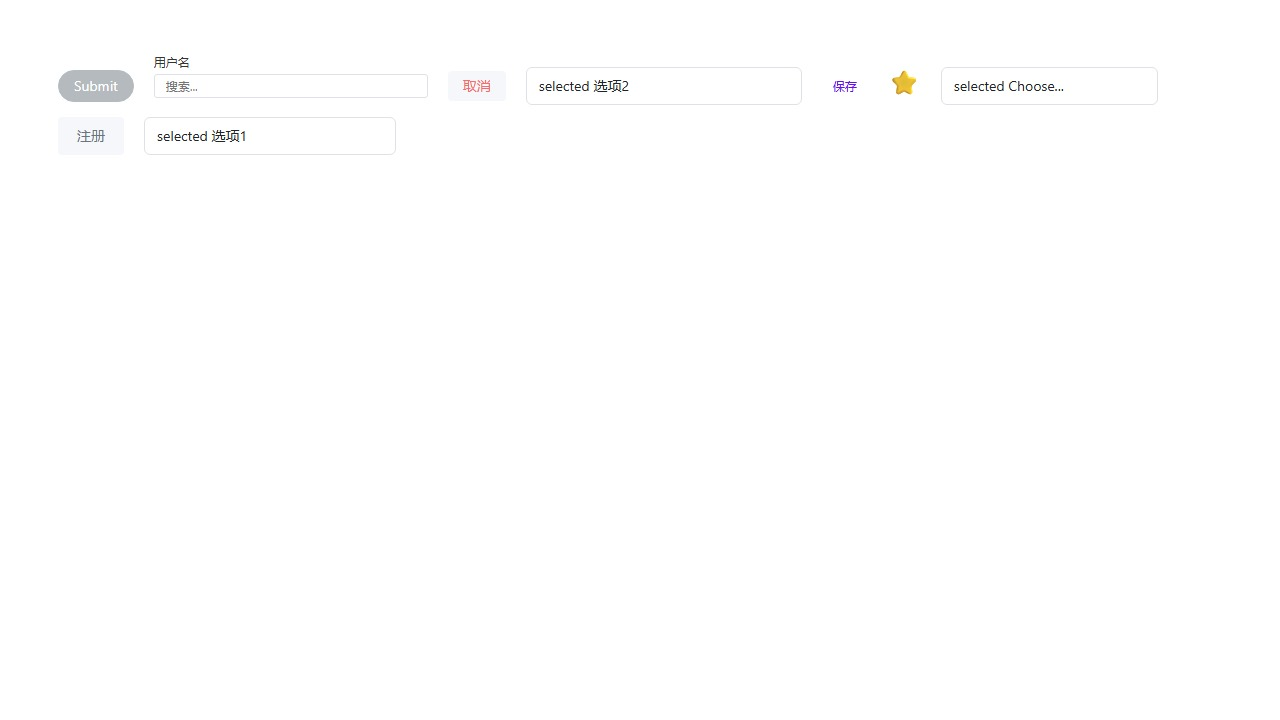button: (58, 117, 124, 155), (58, 70, 134, 102), (448, 71, 506, 101), (822, 75, 868, 97)
icon: (888, 69, 921, 93)
input: (154, 74, 428, 98)
select: (526, 66, 802, 105), (144, 116, 396, 154), (941, 66, 1158, 105)
